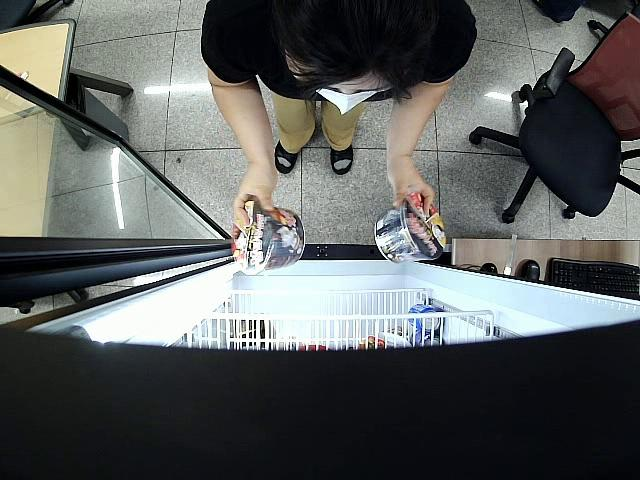00_hand: (234, 161, 277, 229), (388, 157, 434, 217)
07_buldak_L: (231, 200, 304, 274), (374, 193, 446, 264)
